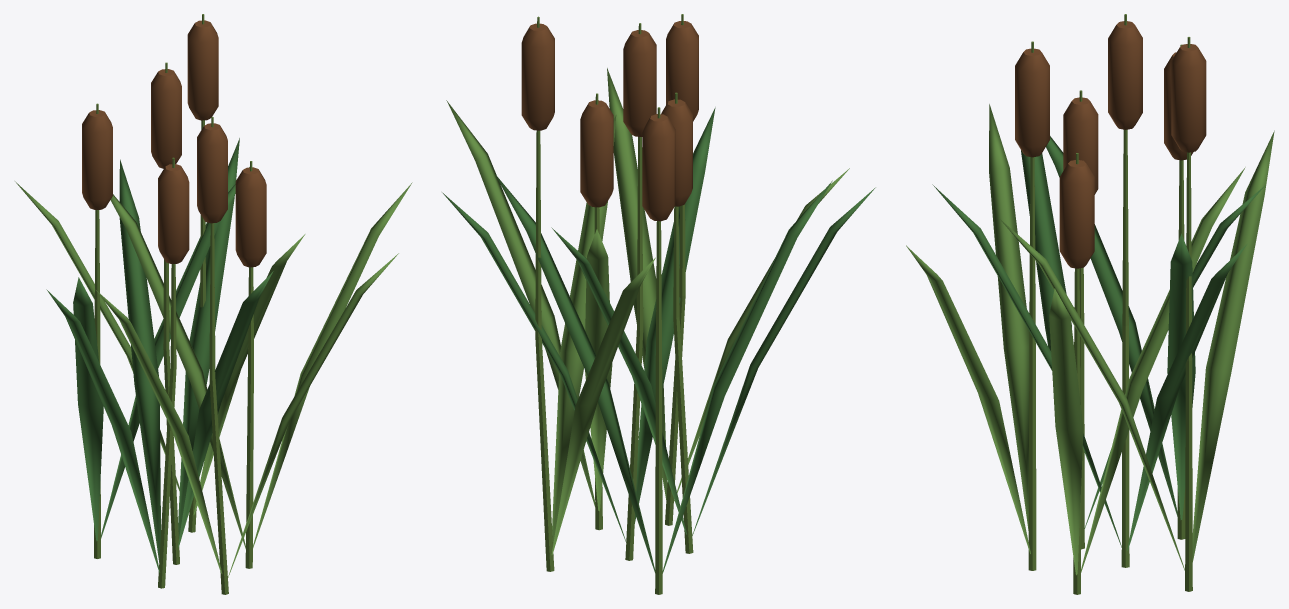
File: Plant_Lakeside_CattailCluster_001.glb
3 views of the same model, side by side, from view 1: azimuth 30°, elevation 25°; view 2: azimuth 150°, elevation 25°; view 3: azimuth 270°, elevation 25° (orthographic). The views are drawn at different scales.
Parts seen in each view (by area): view 1: LK_CattailCluster_Body; view 2: LK_CattailCluster_Body; view 3: LK_CattailCluster_Body.
Boxes of the visible parts, x1,y1,x2,y2 form: LK_CattailCluster_Body: (15,14,412,594); LK_CattailCluster_Body: (442,14,875,594); LK_CattailCluster_Body: (906,14,1274,594).
Bounding box in the file's own units: 1.3 × 1.66 × 0.9917.
